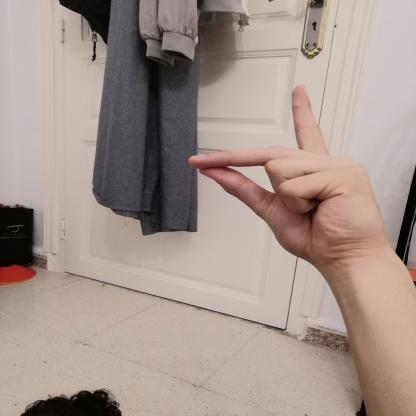TAA: (175, 75, 396, 276)
